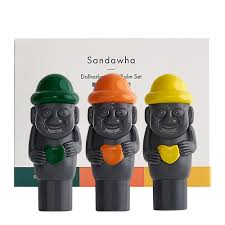Stone Statue: (21, 71, 82, 212), (144, 67, 202, 214), (80, 71, 138, 215)
